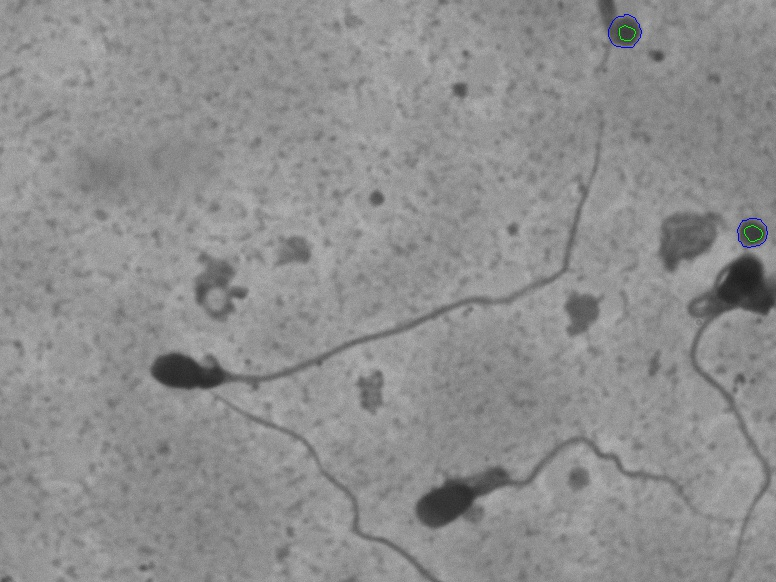Abnormal: (142, 95, 627, 403), (391, 408, 732, 541)
